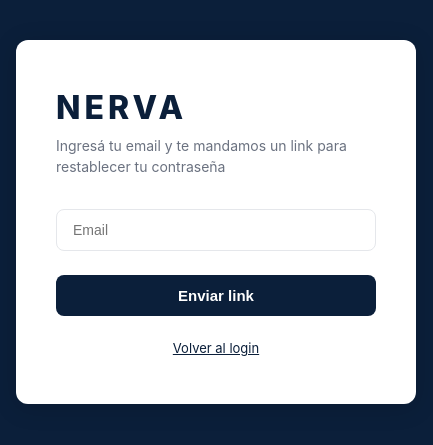
Test case: ForgotPassword › muestra un error real si la llamada falla (ej. rate limit)
In the field with placeholder "Email": [216, 230] box [56,209,376,251], type "user@nerva.test"
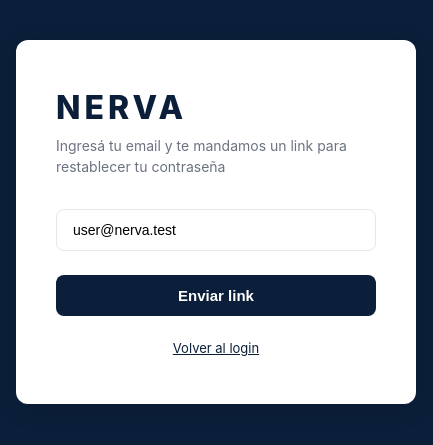
Click the button "Enviar link": [216, 296] box [56,275,376,316]
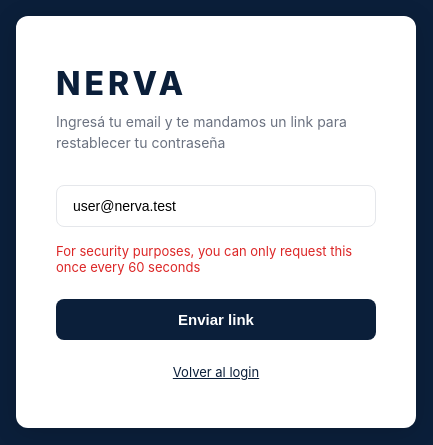
Check: the text "For security purposes, you can only request this once every 60 seconds" is shown, box [56,243,376,275]
